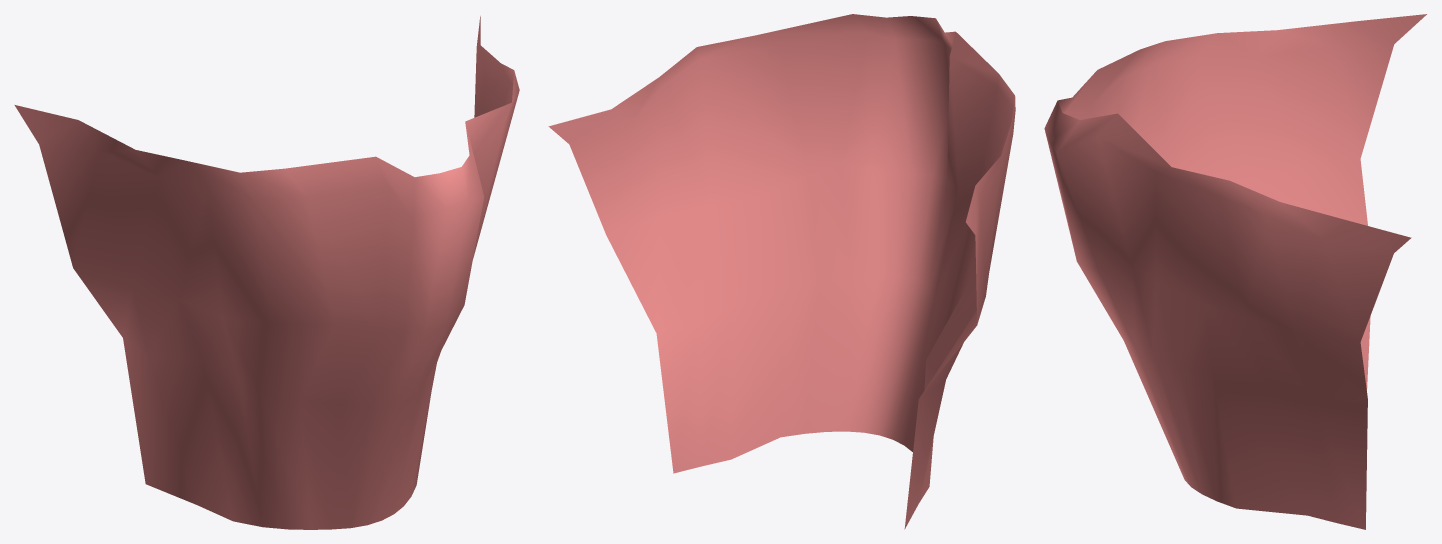
3 renders of one model, left to right at view 1: azimuth 30°, elevation 25°; view 2: azimuth 150°, elevation 25°; view 3: azimuth 270°, elevation 25°, orthographic. The views are drawn at different scales.
Parts seen in each view (by area): view 1: l; view 2: l; view 3: l.
Boxes of the visible parts, x1,y1,x2,y2 form: l: [14, 16, 519, 529]; l: [548, 14, 1015, 529]; l: [1044, 14, 1426, 529].
Size of the model in its own units: 7.04 by 6.11 by 5.43.
